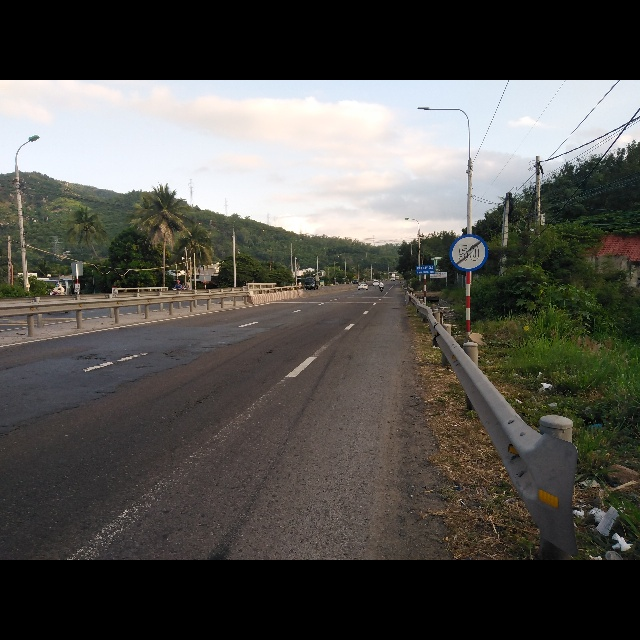Hết hạn chế tốc độ tối đa 50km/h: (449, 233, 490, 272)
